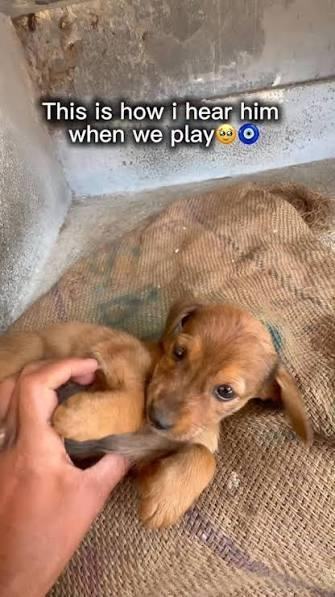puppy-dog: (0, 297, 314, 532)
